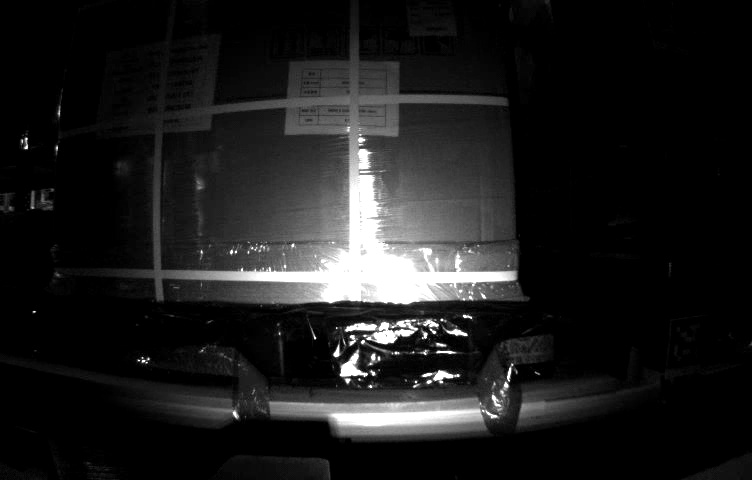True Barcode: (406, 1, 461, 36)
